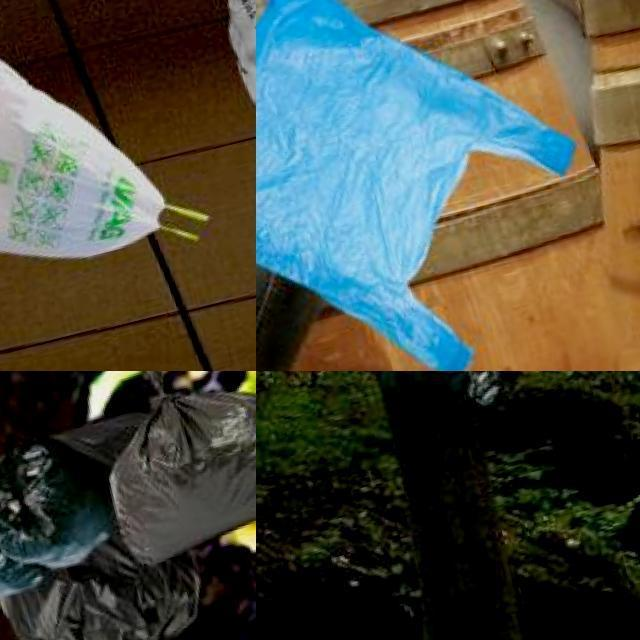waste: (256, 0, 618, 371), (0, 403, 227, 640), (0, 25, 193, 293), (77, 371, 256, 553), (366, 371, 525, 421)
